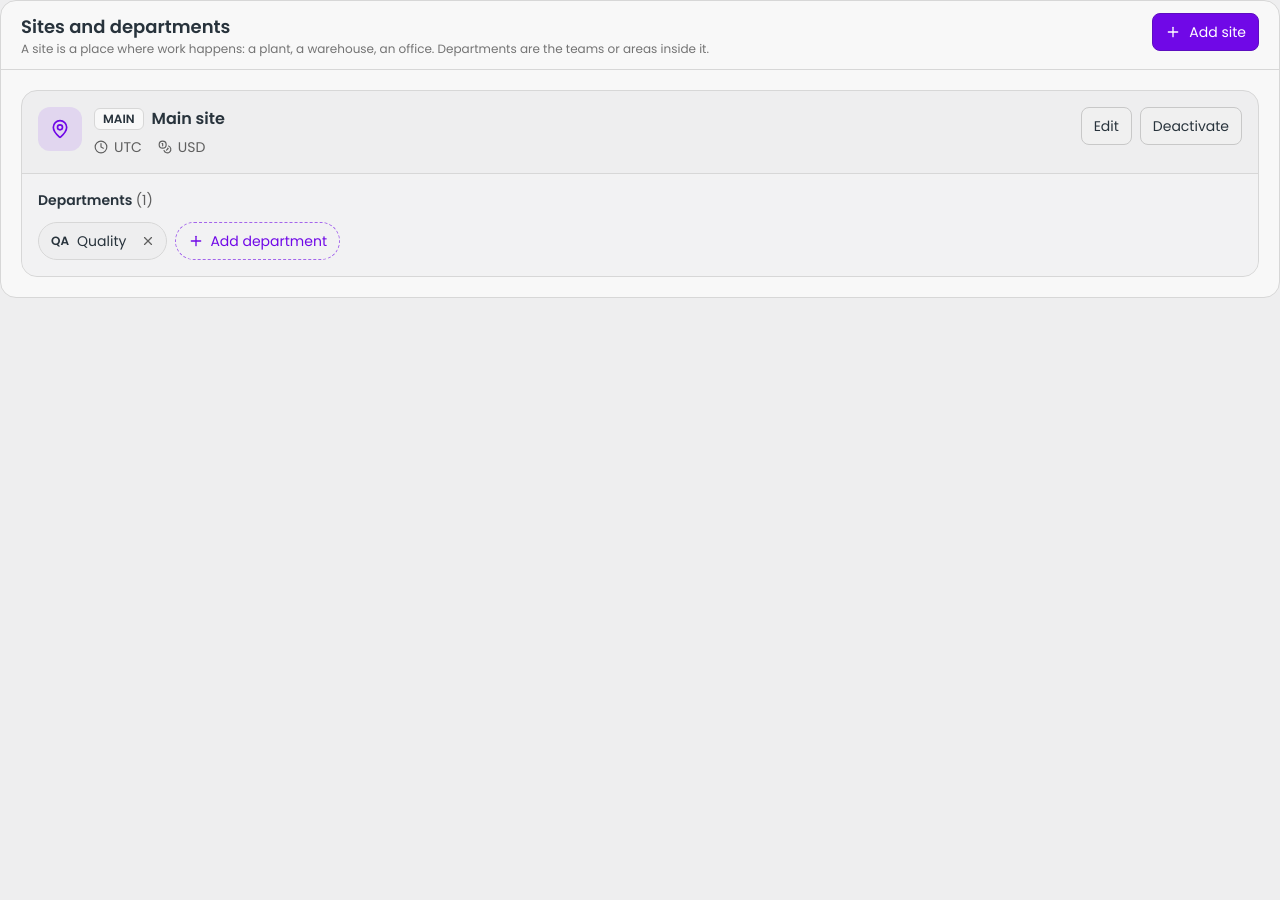
Scenario: sites › saves the changed time zone and currency
Click the button with aria-label "Edit site MAIN" at (1106, 126), box [1081,107,1132,145]
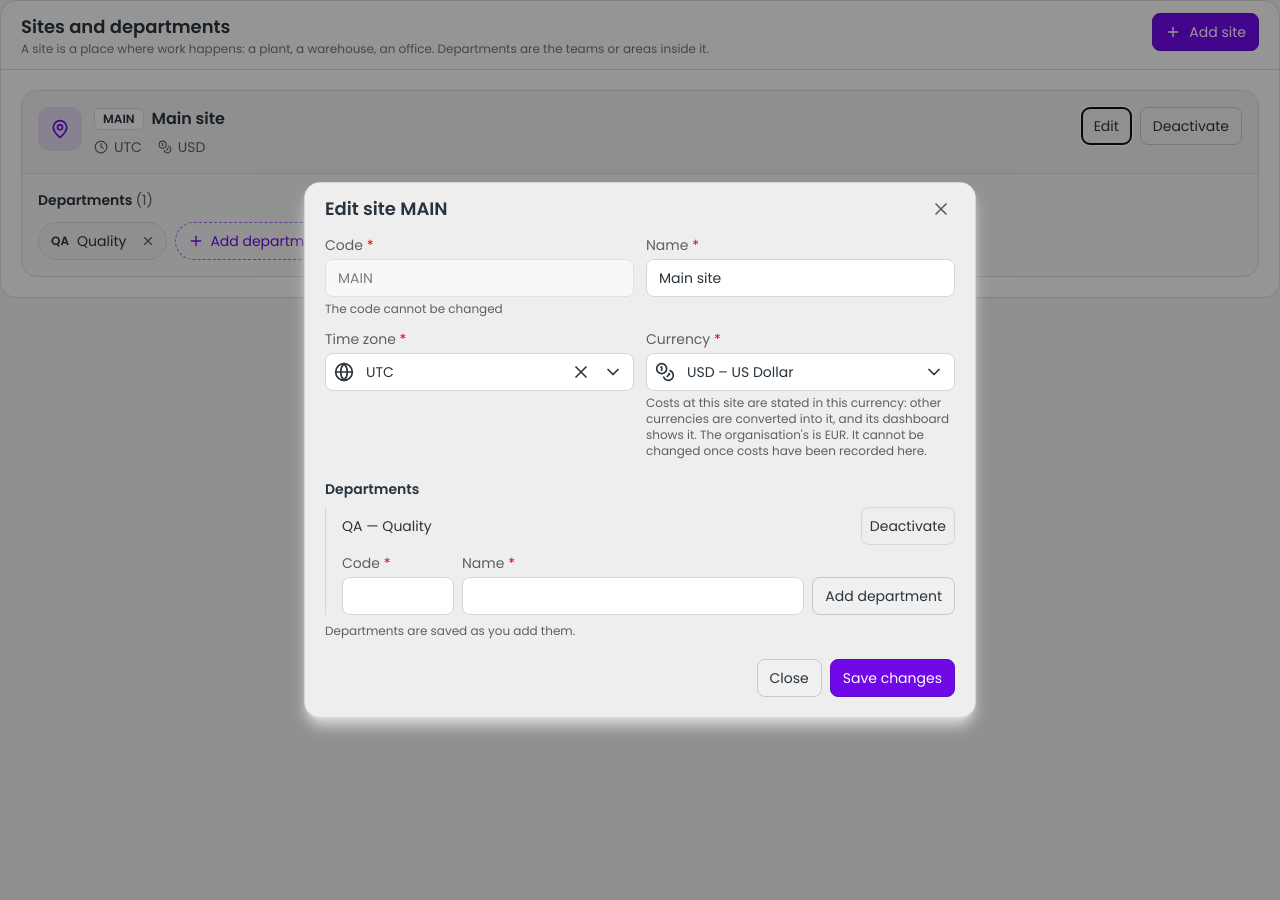
Type "Asia/Tokyo" into the dropdown labelled "Time zone" at (462, 372), box [366,362,557,382]
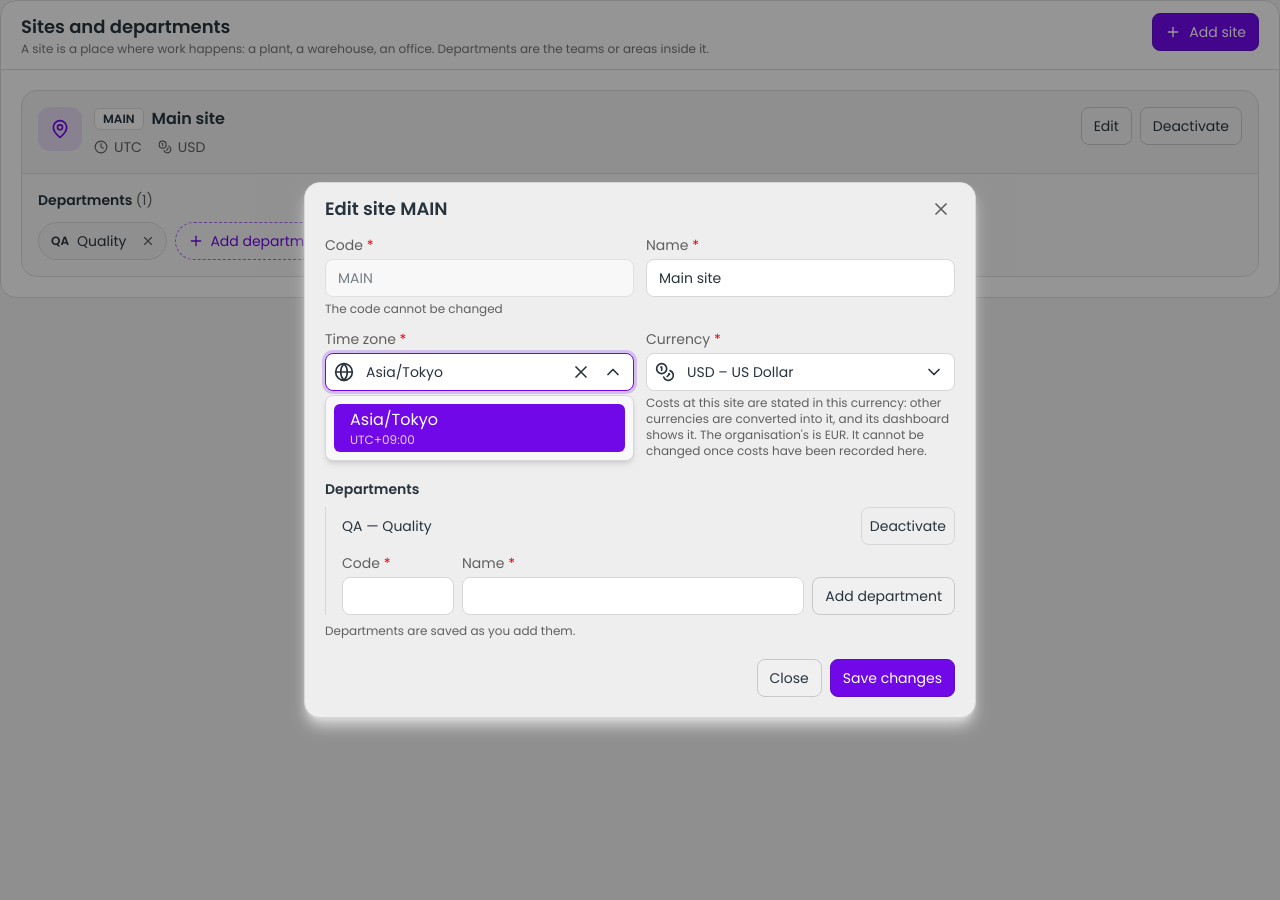
Click the option "Asia/Tokyo UTC+09:00" at (480, 428), box [326,400,633,456]
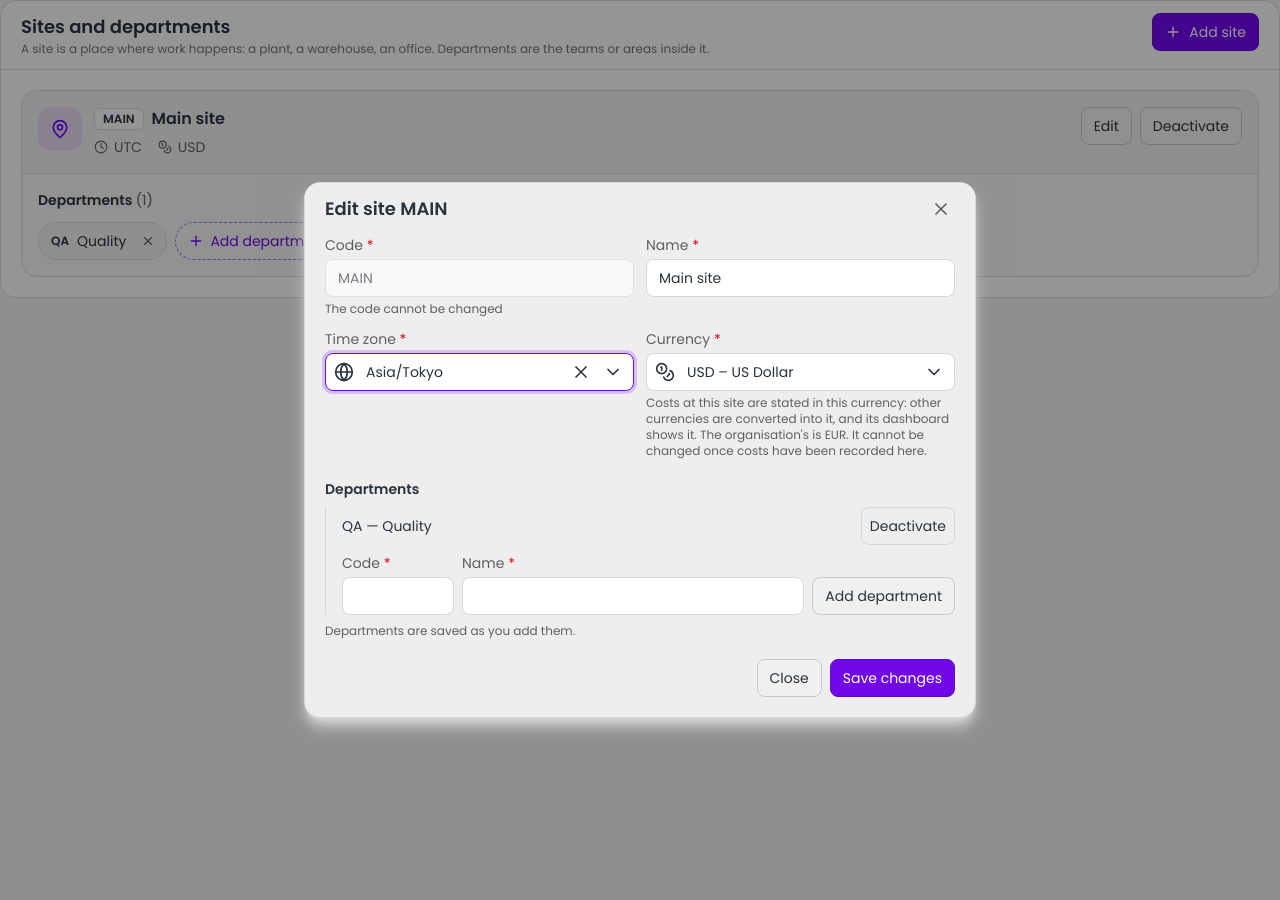
Type "JPY" into the dropdown labelled "Currency" at (798, 372), box [687,362,910,382]
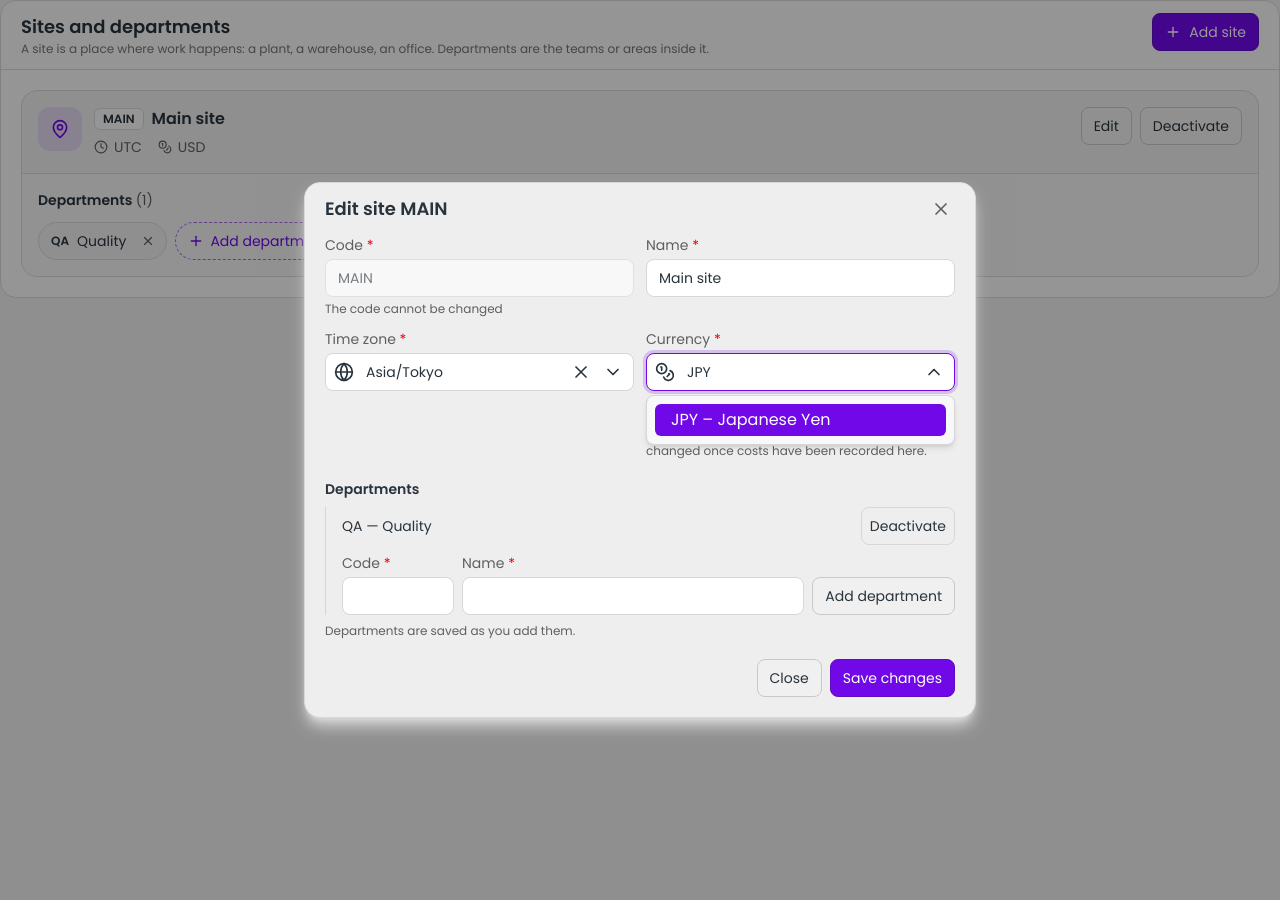
Click the option "JPY – Japanese Yen" at (800, 420), box [647,400,954,440]
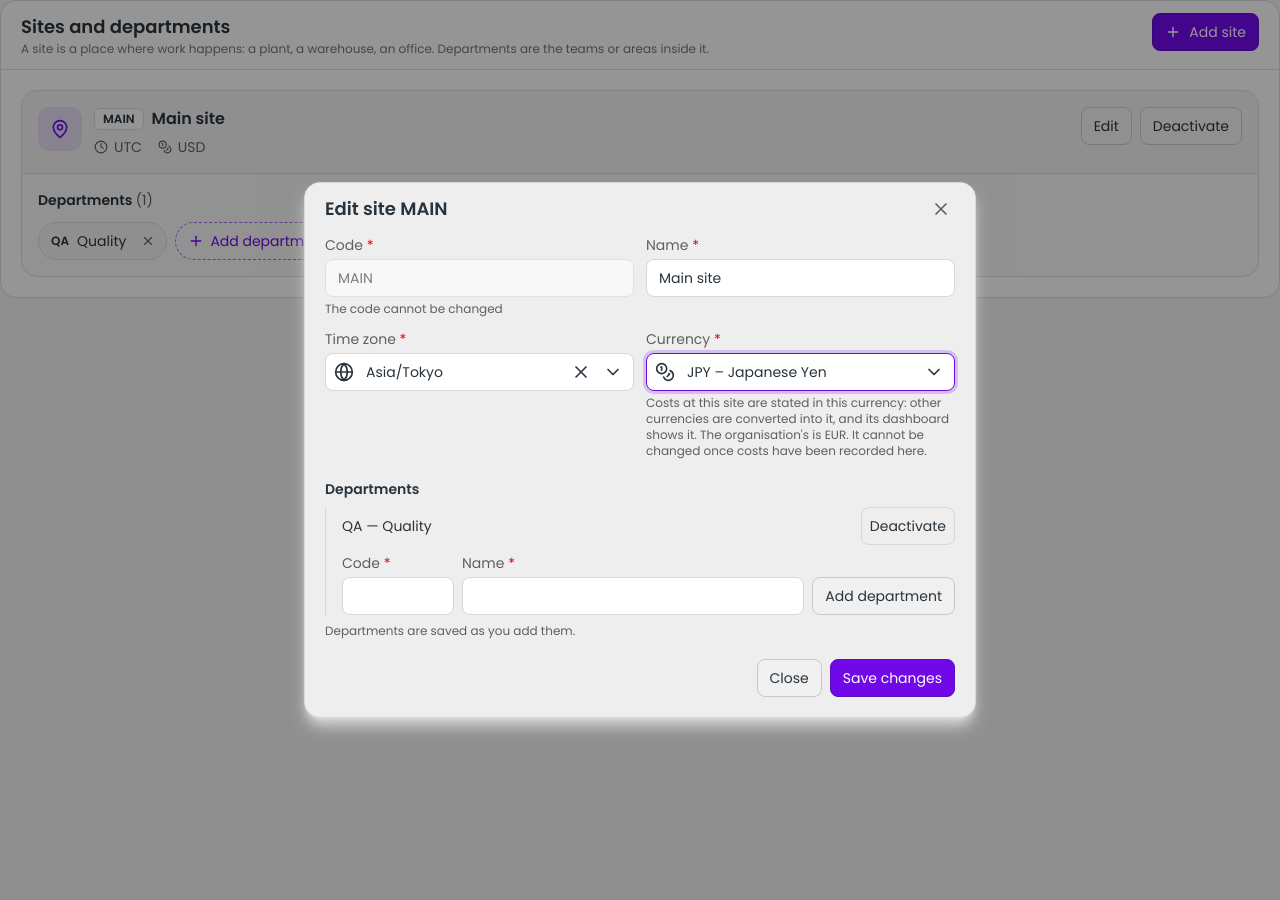
Click the button "Save changes" at (892, 678), box [830,659,955,697]
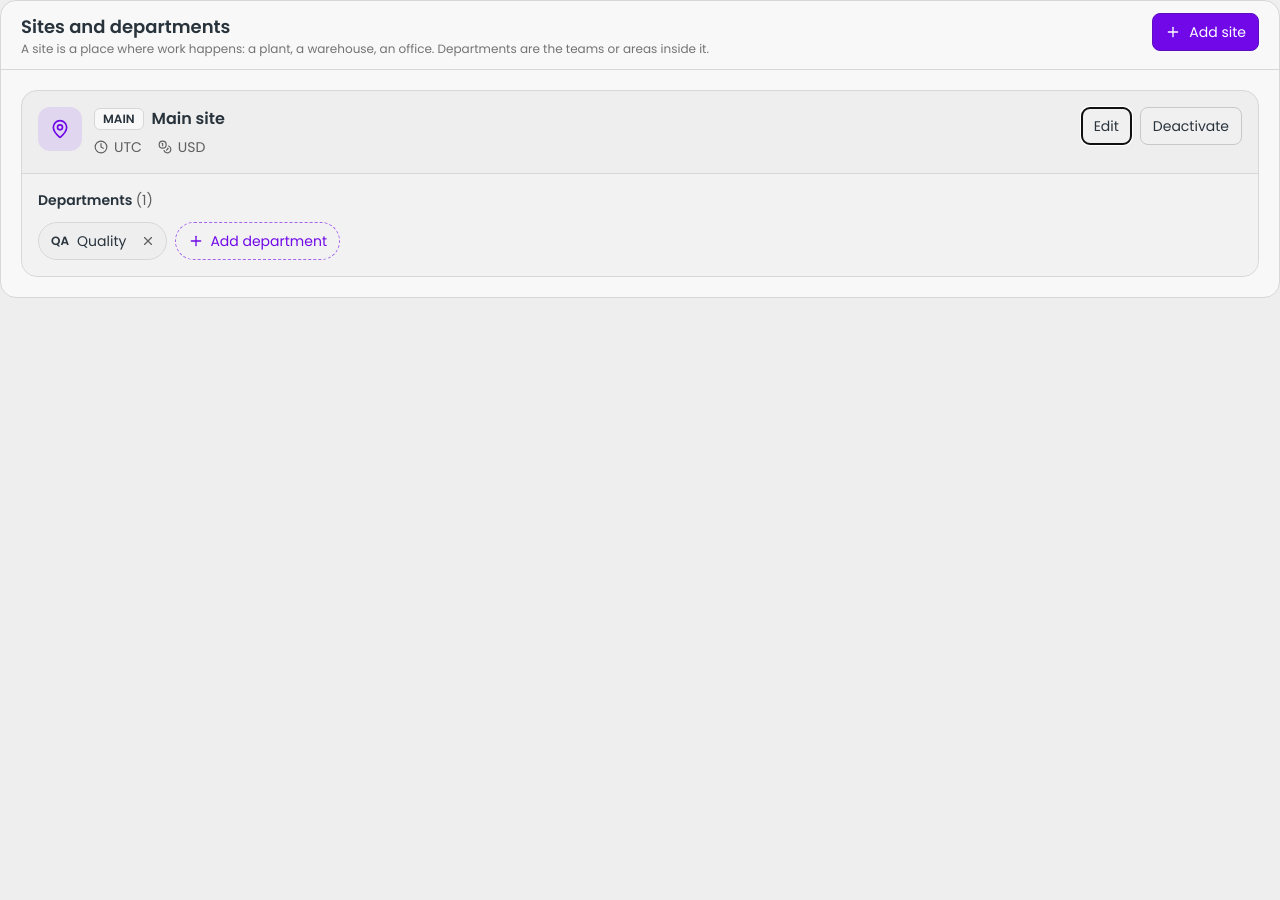
Check: the dialog is gone
